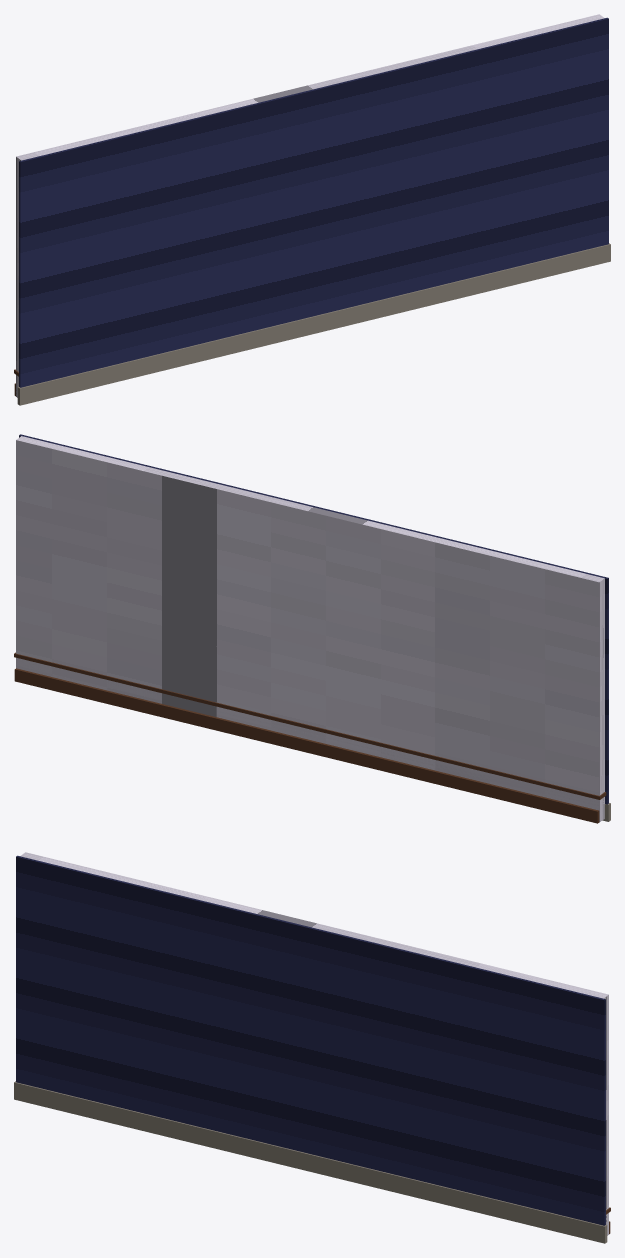
Rendered from back.glb.
3 renders of one model, top to bottom at view 1: azimuth 30°, elevation 25°; view 2: azimuth 150°, elevation 25°; view 3: azimuth 330°, elevation 25°, orthographic.
Parts seen in each view (by area): view 1: Box3, Box4, Box1; view 2: Box1, Box2, Box5, Box6, Box3; view 3: Box3, Box4, Box1.
Boxes of the visible parts, left/top/right/bottom form: Box3: left=19, top=17, right=608, bottom=387; Box4: left=17, top=243, right=610, bottom=405; Box1: left=16, top=14, right=604, bottom=397; Box1: left=16, top=436, right=604, bottom=822; Box2: left=14, top=668, right=599, bottom=823; Box5: left=16, top=658, right=604, bottom=821; Box6: left=14, top=652, right=606, bottom=799; Box3: left=19, top=434, right=608, bottom=804; Box3: left=16, top=855, right=605, bottom=1225; Box4: left=14, top=1081, right=607, bottom=1243; Box1: left=20, top=852, right=608, bottom=1235.
Bounding box in the file's own units: 9.27 × 3.64 × 0.25.
Materials: 4 (2 with a texture image).
